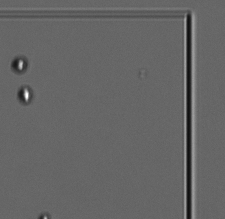Living Cell: (14, 84, 35, 106), (9, 55, 29, 73)
